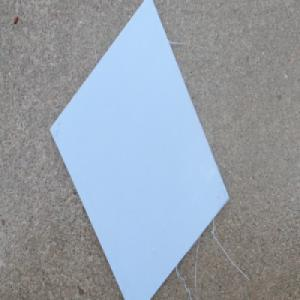PaintChip: (48, 0, 230, 300)
